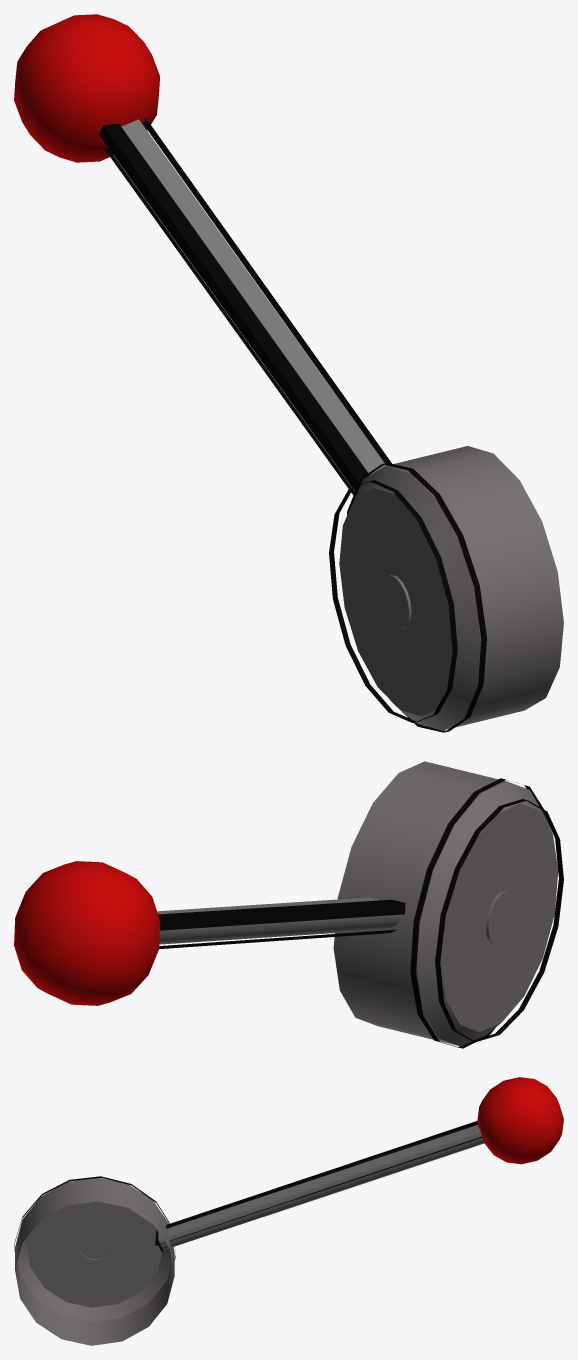
Rendered from Hendel.fbx.
3 views of the same model, one above another, from view 1: azimuth 30°, elevation 25°; view 2: azimuth 150°, elevation 25°; view 3: azimuth 270°, elevation 25° (orthographic). The views are drawn at different scales.
Visible parts, largest first — view 1: Cylinder.002; view 2: Cylinder.002; view 3: Cylinder.002.
Part boxes in pixels (x1,y1,x2,y2): Cylinder.002: [14, 14, 563, 732]; Cylinder.002: [14, 761, 563, 1048]; Cylinder.002: [14, 1077, 563, 1345].
Size of the model in its own units: 112 by 363 by 717.
